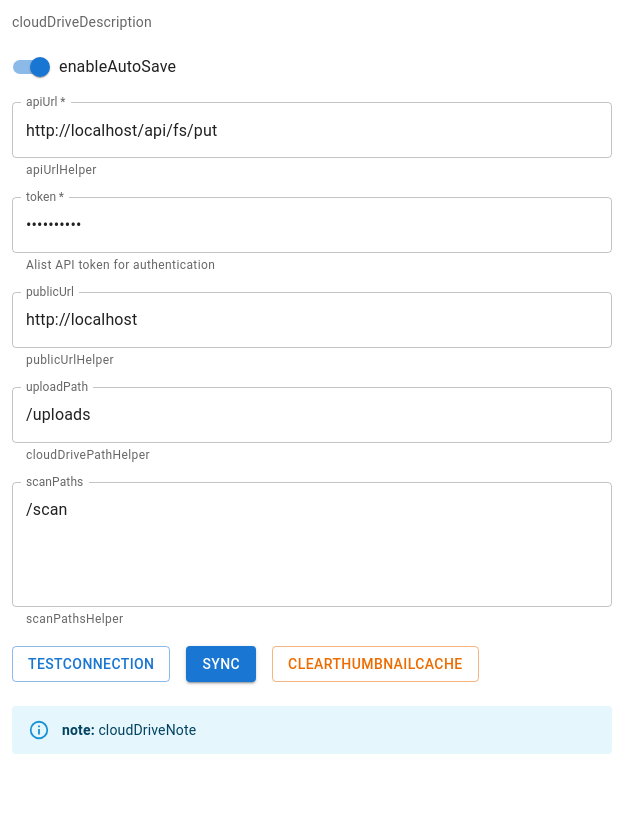
Test: CloudDriveSettings › should handle test connection failure
Click the button "testConnection": (91, 664) left=12, top=646, right=170, bottom=682
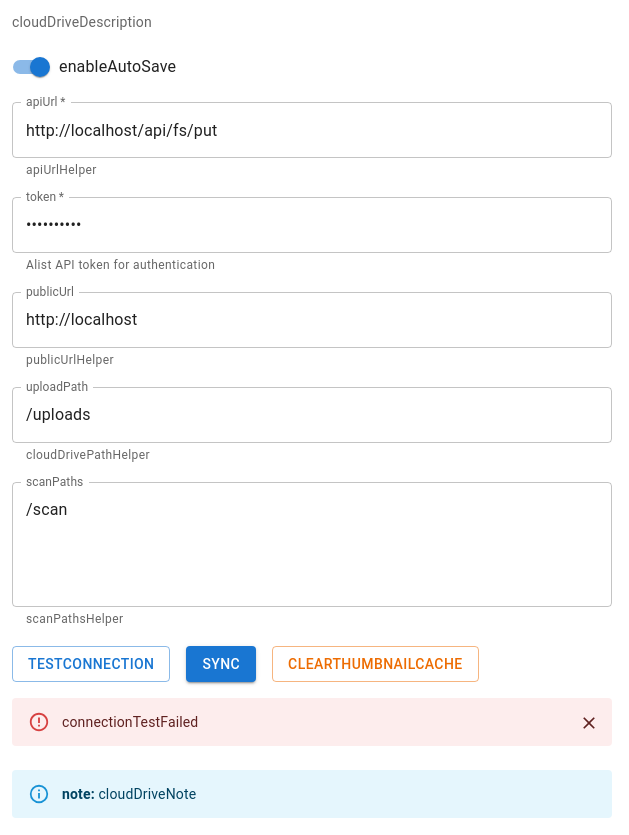
expect the text "connectionTestFailed" is shown: met, box left=62, top=714, right=198, bottom=730
